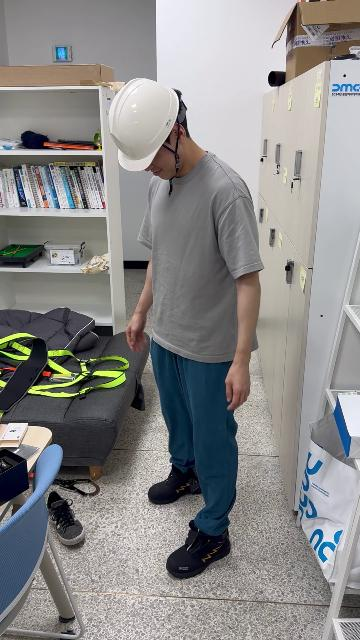helmet_worn: (107, 77, 180, 173)
shoe_not_worn: (46, 491, 85, 546)
shoe_worn: (166, 520, 232, 579), (148, 463, 201, 503)
vest_not_worn: (144, 173, 264, 359)
vest_worn: (0, 334, 130, 398)
